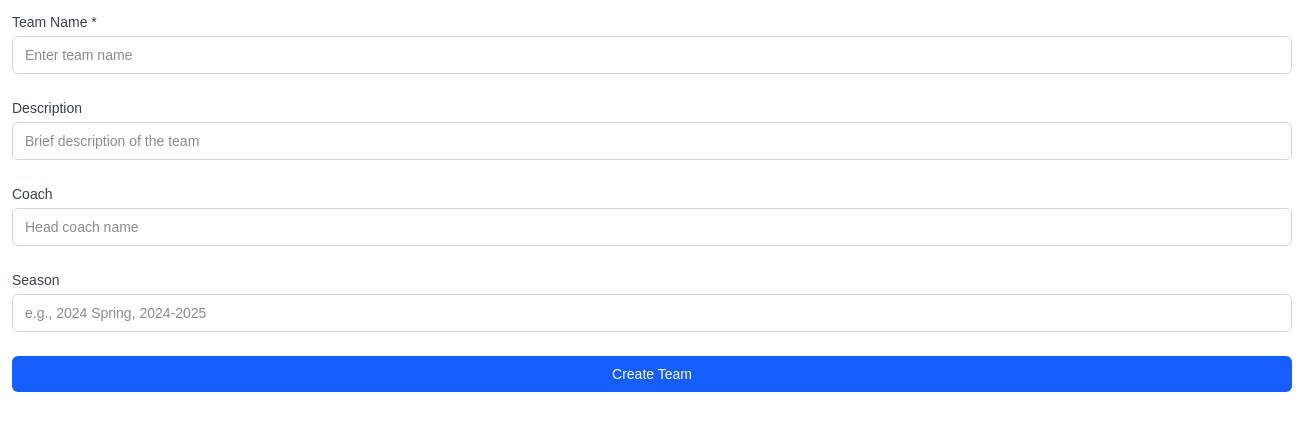
TeamForm › validates required team name field
Click the button "Create Team" at [652, 374], box left=12, top=356, right=1292, bottom=392
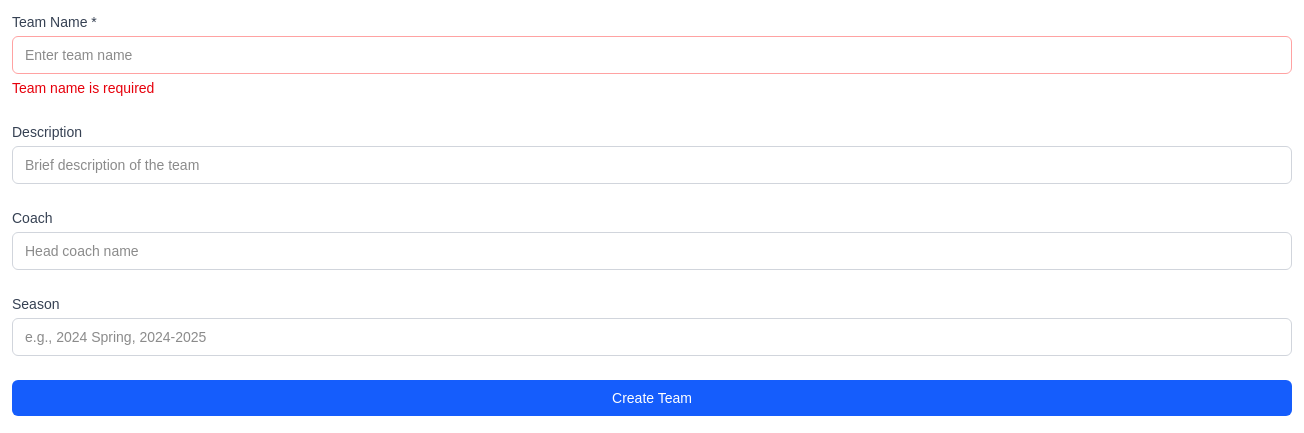
Expected: the text "Team name is required" is shown, left=12, top=80, right=154, bottom=96
